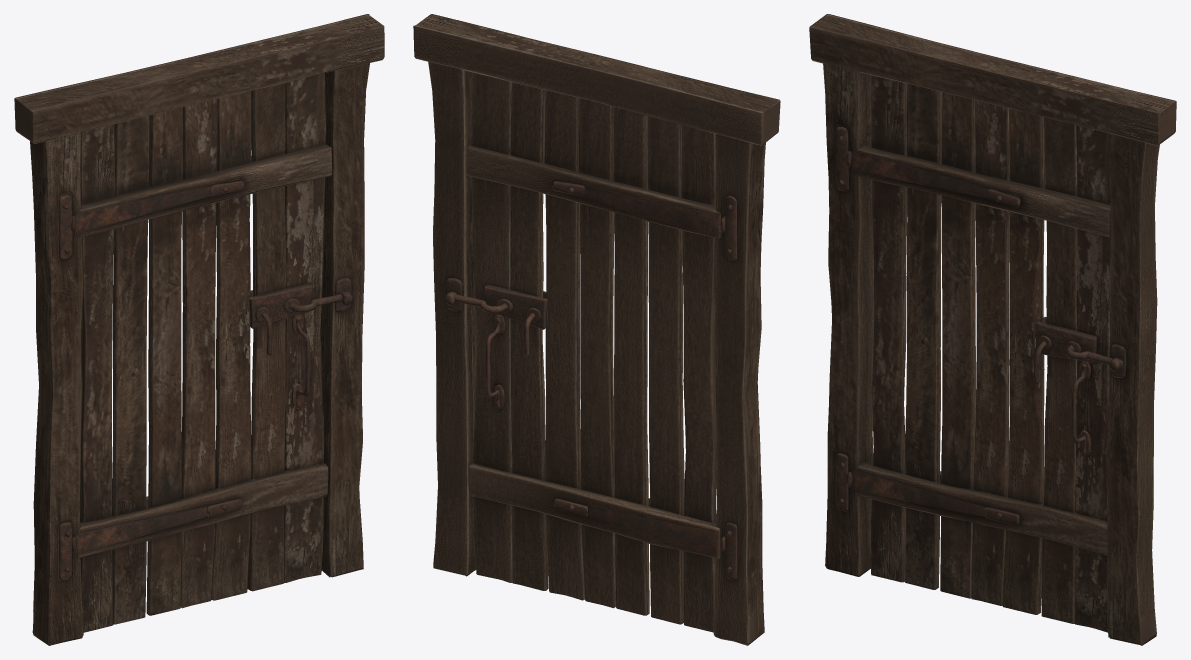
Rendered from Meshy_AI_a_barn_door_0904015200_texture.glb.
The picture shows the model from 3 angles, left to right: view 1: azimuth 30°, elevation 25°; view 2: azimuth 150°, elevation 25°; view 3: azimuth 330°, elevation 25°; orthographic projection.
Visible parts, largest first — view 1: mesh_node; view 2: mesh_node; view 3: mesh_node.
Boxes of the visible parts, <box> form: mesh_node: <box>14,14,384,645</box>; mesh_node: <box>413,14,780,645</box>; mesh_node: <box>809,14,1176,645</box>.
Size of the model in its own units: 0.6836 by 1 by 0.1045.
1 material, 1 textured.
